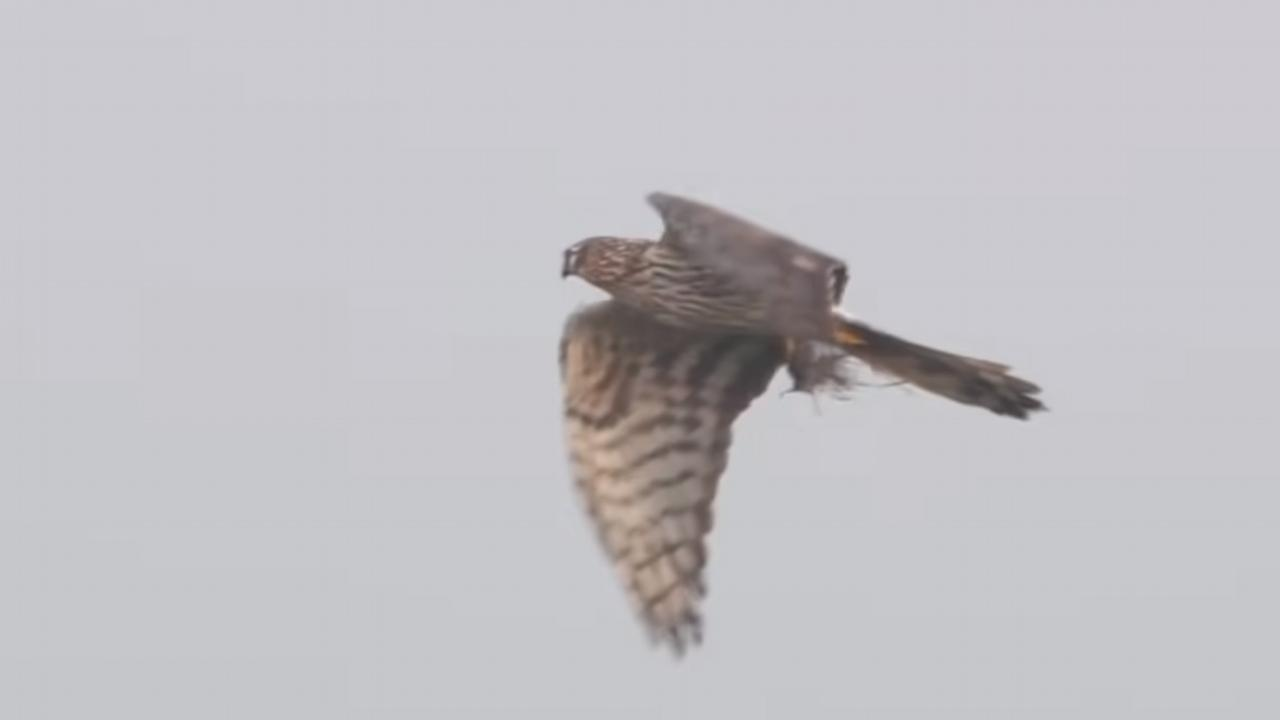Bird: (544, 184, 1060, 670)
